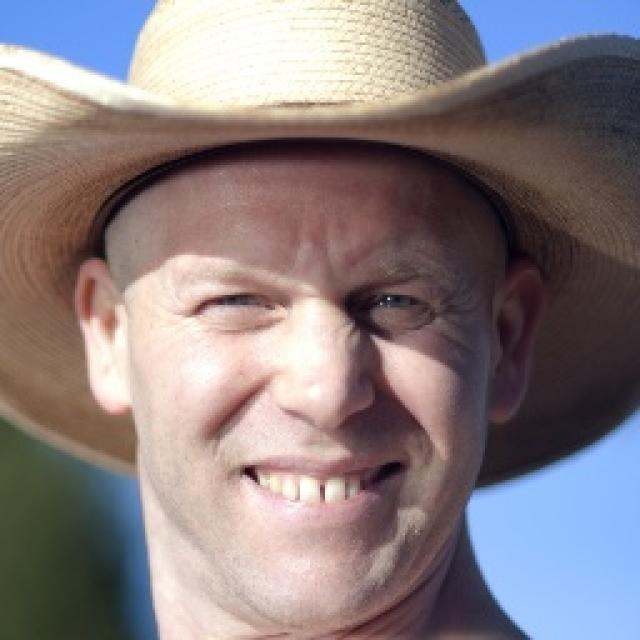earlobe: (484, 366, 526, 425), (92, 362, 136, 418)
eye: (200, 288, 276, 316), (366, 292, 430, 318)
nose: (270, 397, 380, 484)
wholeear: (484, 260, 546, 424), (74, 258, 137, 417)
